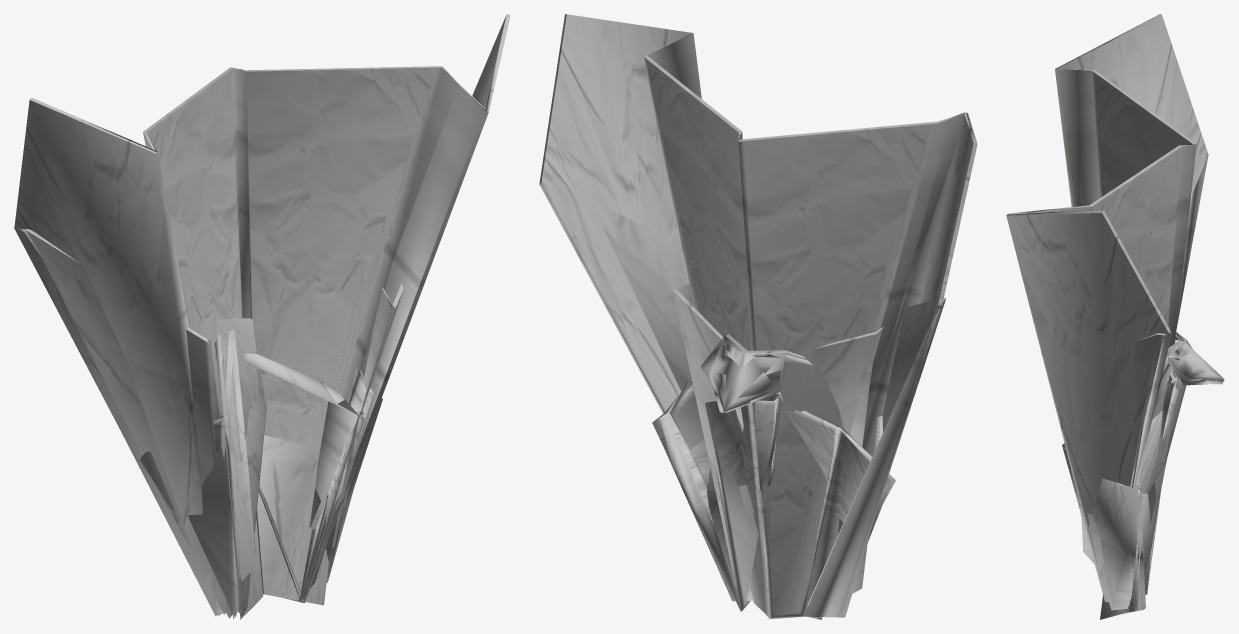
Rendered from Airplane.FBX.
3 views of the same model, side by side, from view 1: azimuth 30°, elevation 25°; view 2: azimuth 150°, elevation 25°; view 3: azimuth 270°, elevation 25° (orthographic). The views are drawn at different scales.
Visible parts, largest first — view 1: PaperPlane; view 2: PaperPlane; view 3: PaperPlane.
Boxes of the visible parts, x1,y1,x2,y2 form: PaperPlane: (14, 14, 510, 619); PaperPlane: (539, 14, 977, 619); PaperPlane: (1006, 14, 1224, 619).
Size of the model in its own units: 77.19 by 89.72 by 36.06.
1 material, 1 textured.
